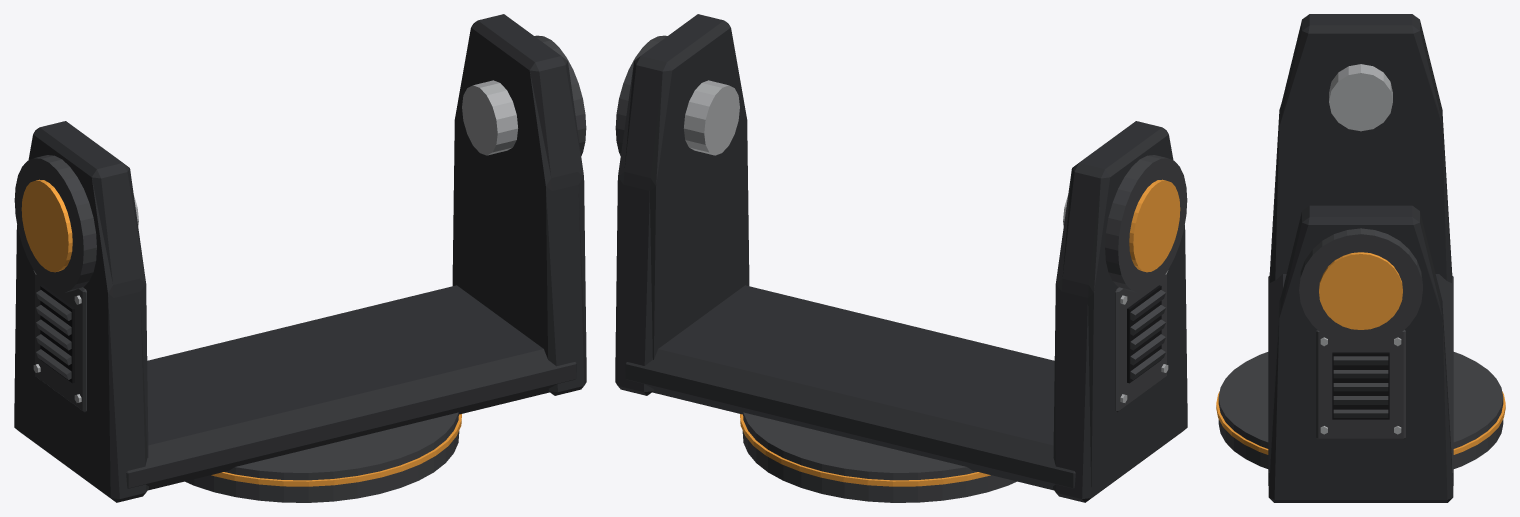
Rendered from csc_lumora_w7_yoke.obj.
The picture shows the model from 3 angles, left to right: view 1: azimuth 30°, elevation 25°; view 2: azimuth 150°, elevation 25°; view 3: azimuth 270°, elevation 25°; orthographic projection. The views are drawn at different scales.
Parts seen in each view (by area): view 1: yoke_csc_2f3033, yoke_csc_3f4043, yoke_csc_f9a238, yoke_csc_adafb1, yoke_csc_161618; view 2: yoke_csc_2f3033, yoke_csc_3f4043, yoke_csc_f9a238, yoke_csc_adafb1, yoke_csc_161618; view 3: yoke_csc_2f3033, yoke_csc_3f4043, yoke_csc_f9a238, yoke_csc_adafb1, yoke_csc_161618.
Boxes of the visible parts, left/top/right/bottom form: yoke_csc_2f3033: left=14, top=14, right=586, bottom=502; yoke_csc_3f4043: left=14, top=35, right=586, bottom=502; yoke_csc_f9a238: left=21, top=179, right=461, bottom=486; yoke_csc_adafb1: left=33, top=80, right=518, bottom=402; yoke_csc_161618: left=40, top=285, right=74, bottom=383; yoke_csc_2f3033: left=615, top=14, right=1187, bottom=502; yoke_csc_3f4043: left=615, top=35, right=1187, bottom=502; yoke_csc_f9a238: left=740, top=179, right=1180, bottom=486; yoke_csc_adafb1: left=683, top=80, right=1168, bottom=402; yoke_csc_161618: left=1127, top=285, right=1161, bottom=383; yoke_csc_2f3033: left=1268, top=14, right=1453, bottom=502; yoke_csc_3f4043: left=1218, top=228, right=1503, bottom=468; yoke_csc_f9a238: left=1216, top=252, right=1505, bottom=454; yoke_csc_adafb1: left=1320, top=64, right=1401, bottom=434; yoke_csc_161618: left=1332, top=352, right=1389, bottom=419.
Bounding box in the file's own units: 0.8108 × 0.5223 × 0.4444.
